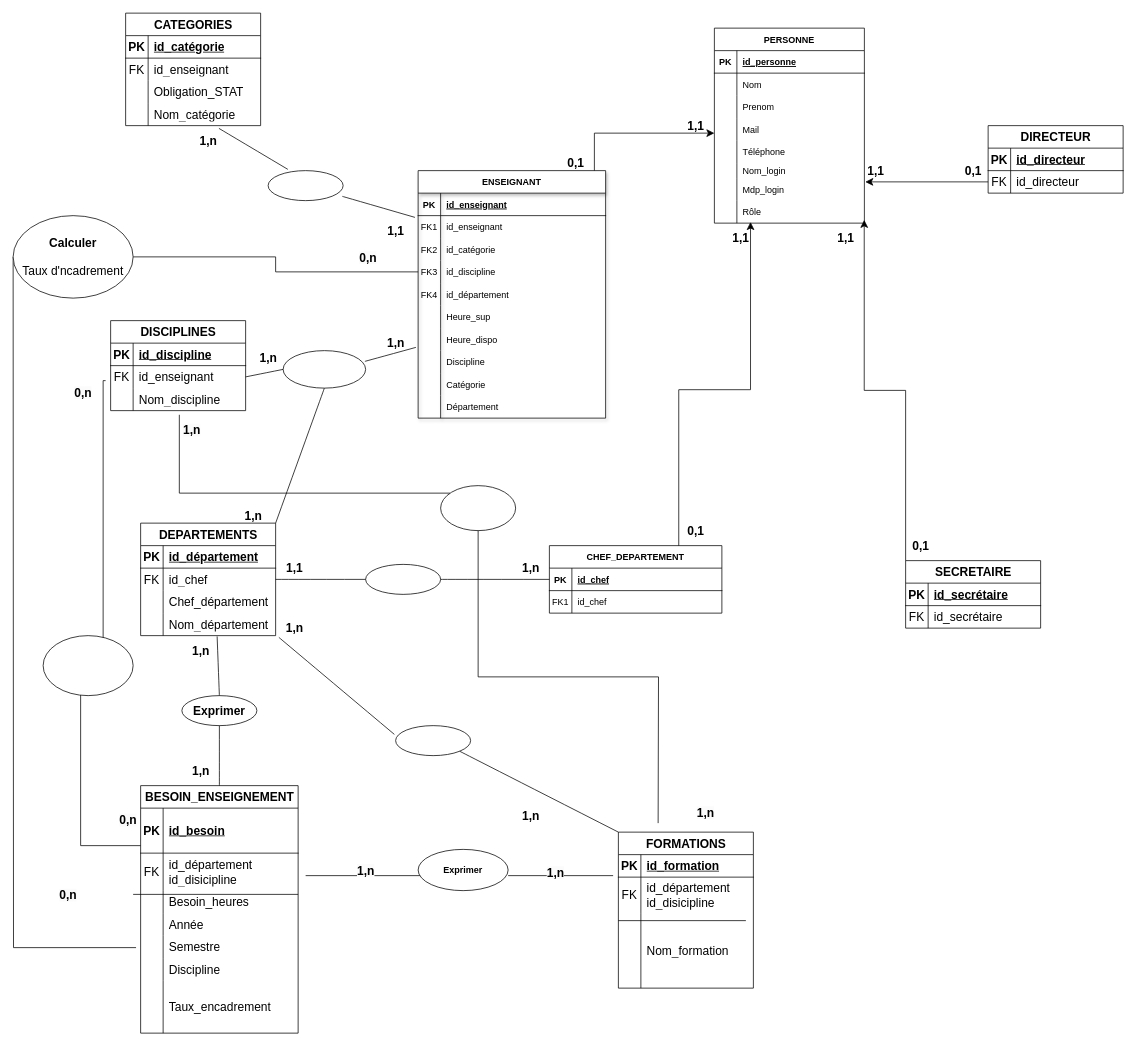
This 1136x1046 diagram has some shape labels left out. Each missing label, with the centre of its shape:
"Affecter Volume" goes at [324,369].
"Composer" goes at [478,508].
"Faire partie" goes at [305,185].
"Integrer" goes at [87,665].
"Piloter" goes at [403,579].
"Proposer" goes at [433,740].
